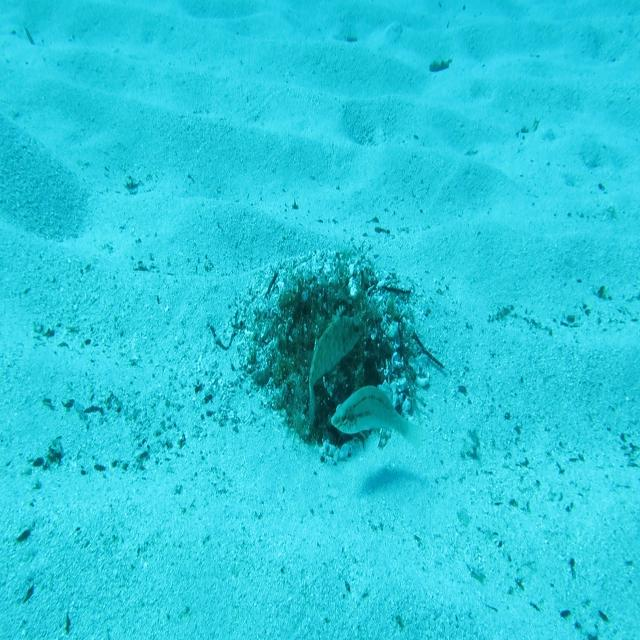BEND: (305, 302, 368, 427)
core_nest: (306, 297, 346, 349)
female: (329, 382, 426, 454)
nest: (228, 231, 444, 485)
vegetation: (428, 57, 451, 75)
